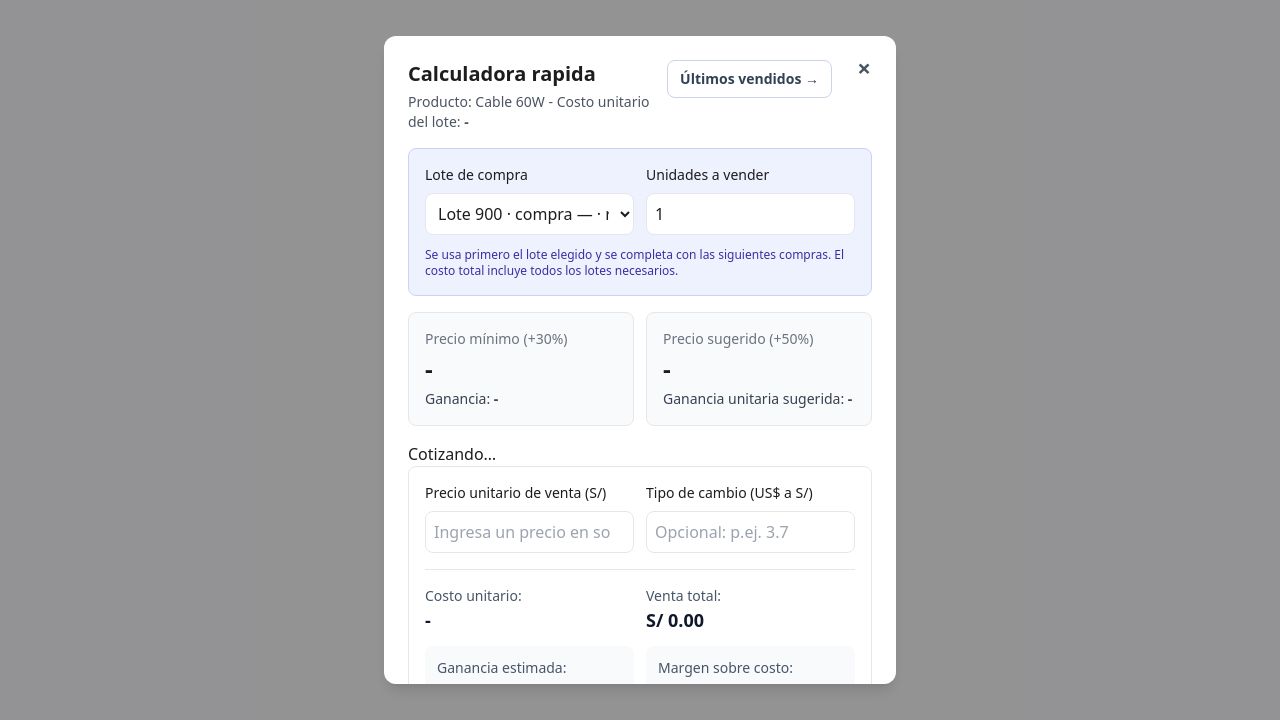
Test: soloInventario muestra historial exacto y familia, cantidades netas y precio unitario
What coordinates should you click on to do the following:
click the button "Últimos vendidos →"
I would click on:
 (750, 79)
Its box is [667, 60, 832, 98].
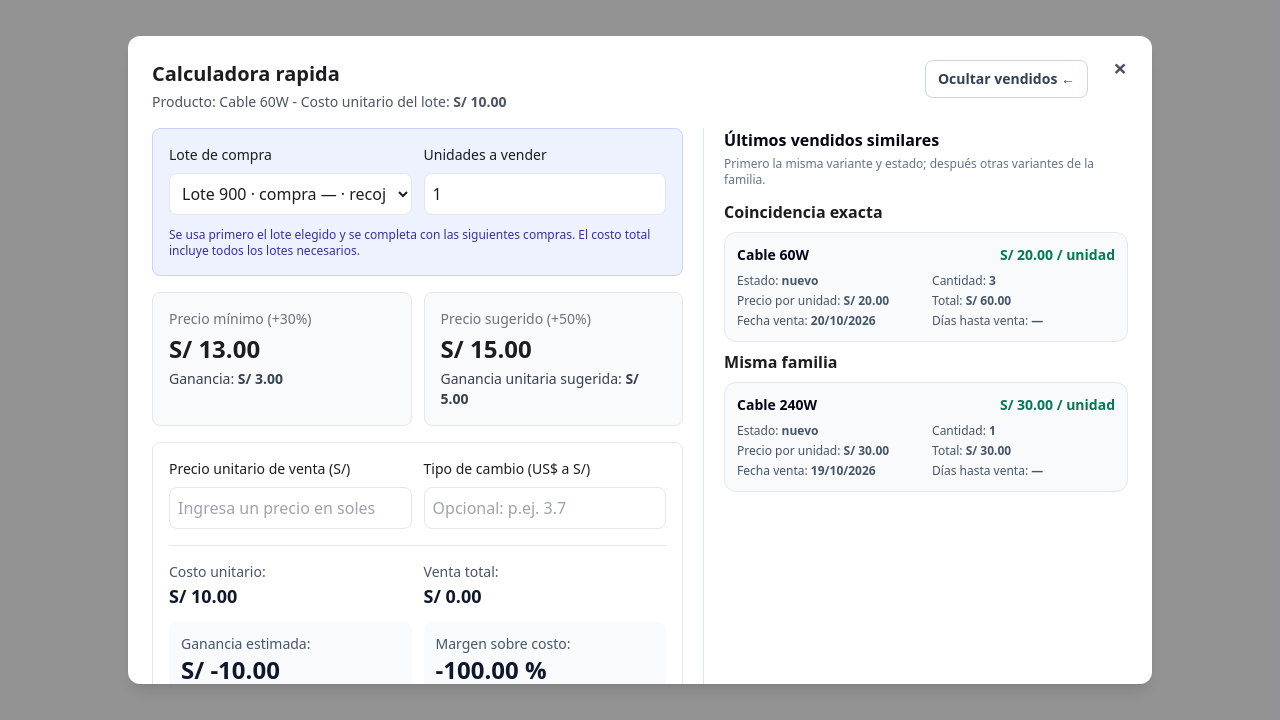
Now the heading "Coincidencia exacta" is shown, box [724, 201, 883, 223]
Now the heading "Misma familia" is shown, box [724, 351, 837, 373]
Now the text "Cantidad:" shows "3", box [989, 272, 996, 289]
